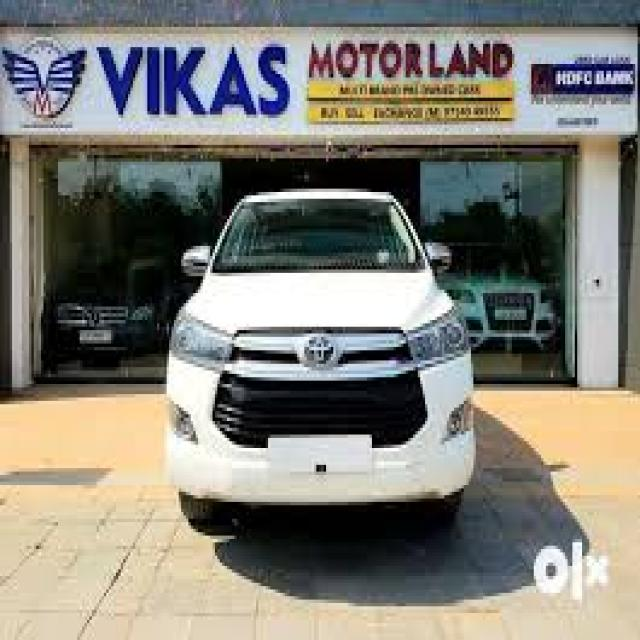light_vehicle: (167, 188, 475, 536)
